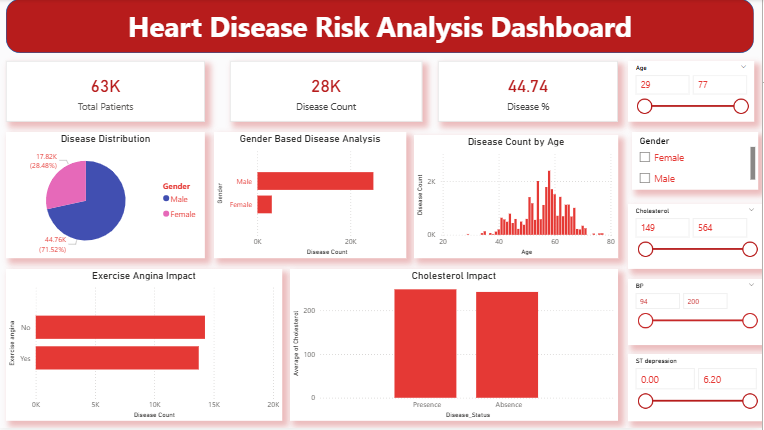

This screenshot's page, from the dashboard's own definition file:
{"tool":"powerbi","page":{"name":"Page 1","canvas":[1280,720],"ordinal":0},"visuals":[{"type":"shape","box":[10.1,0,1256.5,90.7],"z":0},{"type":"card","fields":{"Values":["heart_disease_analysis heart_data_clean.Total Patients"]},"box":[10.1,104.1,334.3,102.5],"z":1000},{"type":"card","fields":{"Values":["heart_disease_analysis heart_data_clean.Disease Count"]},"box":[386.4,104.1,322.5,102.5],"z":2000},{"type":"card","fields":{"Values":["heart_disease_analysis heart_data_clean.Disease %"]},"box":[735.7,104.1,302.4,102.5],"z":3000},{"type":"pieChart","title":"Disease Distribution","fields":{"Y":["CountNonNull(heart_disease_analysis heart_data_clean.Disease_Status)"],"Category":["heart_disease_analysis heart_data_clean.Gender"]},"box":[10.1,223.4,334.3,211.7],"z":4000},{"type":"barChart","title":"Gender Based Disease Analysis","fields":{"Y":["heart_disease_analysis heart_data_clean.Disease Count"],"Category":["heart_disease_analysis heart_data_clean.Gender"]},"box":[359.5,223.4,322.5,211.7],"z":5000},{"type":"columnChart","fields":{"Category":["heart_disease_analysis heart_data_clean.Age"],"Y":["heart_disease_analysis heart_data_clean.Disease Count"]},"box":[695.4,228.5,342.7,206.6],"z":6000},{"type":"barChart","title":"Exercise Angina Impact","fields":{"Category":["heart_disease_analysis heart_data_clean.Exercise angina"],"Y":["heart_disease_analysis heart_data_clean.Disease Count"]},"box":[10.1,453.5,463.6,255.3],"z":7000},{"type":"columnChart","title":"Cholesterol Impact","fields":{"Y":["Avg(heart_disease_analysis heart_data_clean.Cholesterol)"],"Category":["heart_disease_analysis heart_data_clean.Disease_Status"]},"box":[487.1,453.5,551,255.3],"z":8000},{"type":"slicer","fields":{"Values":["heart_disease_analysis heart_data_clean.Age"]},"box":[1054.9,104.1,211.7,102.5],"z":9000},{"type":"slicer","fields":{"Values":["heart_disease_analysis heart_data_clean.Gender"]},"box":[1061.6,223.4,211.7,97.4],"z":10000},{"type":"slicer","fields":{"Values":["heart_disease_analysis heart_data_clean.Cholesterol"]},"box":[1054.9,344.4,225.1,109.2],"z":11000},{"type":"slicer","fields":{"Values":["heart_disease_analysis heart_data_clean.BP"]},"box":[1054.9,470.3,225.1,110.9],"z":12000},{"type":"slicer","fields":{"Values":["heart_disease_analysis heart_data_clean.ST depression"]},"box":[1054.9,596.3,225.1,112.5],"z":13000}]}

Visuals, with their boxes in screenshot pixels (x1, y1, x2, y2), scaled from the page's 1280x720 canvas onto the 764x430 screenshot:
shape: 6,0,756,54
card - heart_disease_analysis heart_data_clean.Total Patients: 6,62,206,123
card - heart_disease_analysis heart_data_clean.Disease Count: 231,62,423,123
card - heart_disease_analysis heart_data_clean.Disease %: 439,62,620,123
"Disease Distribution" pieChart: 6,133,206,260
"Gender Based Disease Analysis" barChart: 215,133,407,260
columnChart - heart_disease_analysis heart_data_clean.Age x heart_disease_analysis heart_data_clean.Disease Count: 415,136,620,260
"Exercise Angina Impact" barChart: 6,271,283,423
"Cholesterol Impact" columnChart: 291,271,620,423
slicer - heart_disease_analysis heart_data_clean.Age: 630,62,756,123
slicer - heart_disease_analysis heart_data_clean.Gender: 634,133,760,192
slicer - heart_disease_analysis heart_data_clean.Cholesterol: 630,206,763,271
slicer - heart_disease_analysis heart_data_clean.BP: 630,281,763,347
slicer - heart_disease_analysis heart_data_clean.ST depression: 630,356,763,423
